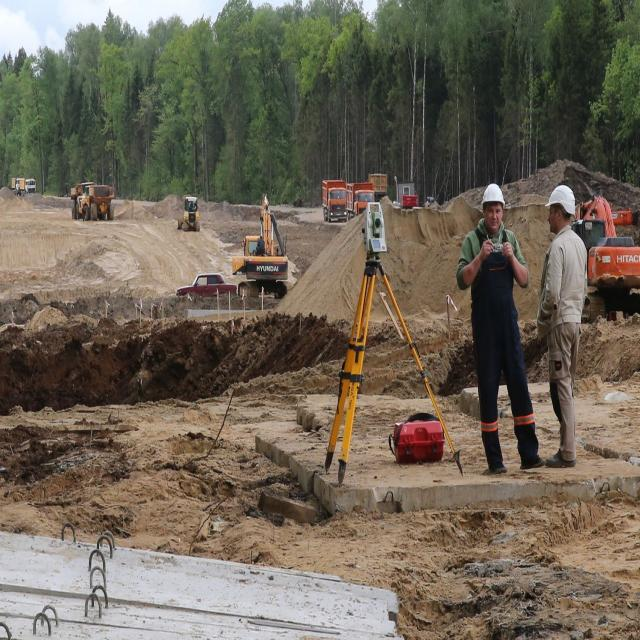Helmet: (544, 186, 576, 218), (482, 186, 506, 216)
NoJacket: (472, 221, 514, 327), (545, 227, 586, 328)
